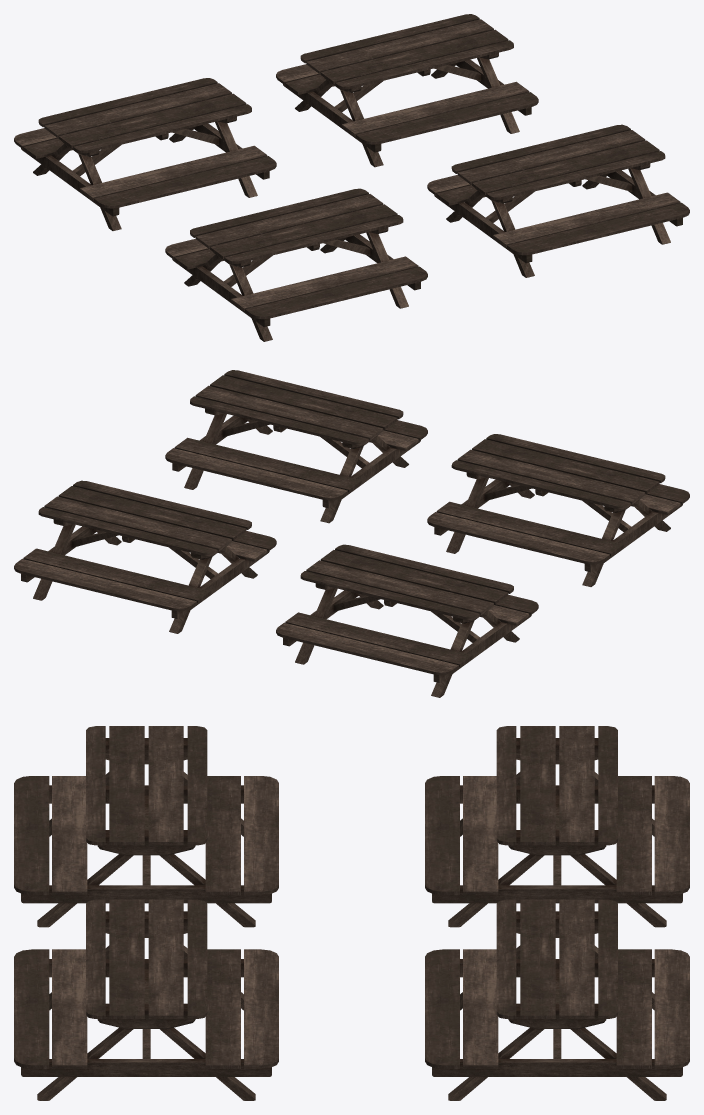
File: seating area.glb
3 views of the same model, one above another, from view 1: azimuth 30°, elevation 25°; view 2: azimuth 150°, elevation 25°; view 3: azimuth 270°, elevation 25° (orthographic). The views are drawn at different scales.
Visible parts, largest first — view 1: g.001; view 2: g.001; view 3: g.001.
Part boxes in pixels (x1,y1,x2,y2): g.001: (14,14,689,341); g.001: (14,370,689,697); g.001: (14,726,689,1100).
Size of the model in its own units: 5 by 0.7678 by 4.94.
Materials: 2 (2 with a texture image).
